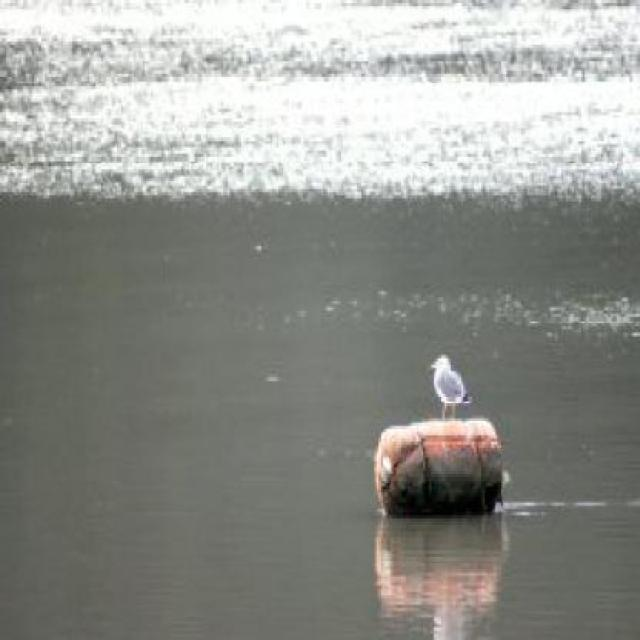a: (363, 407, 524, 546)
